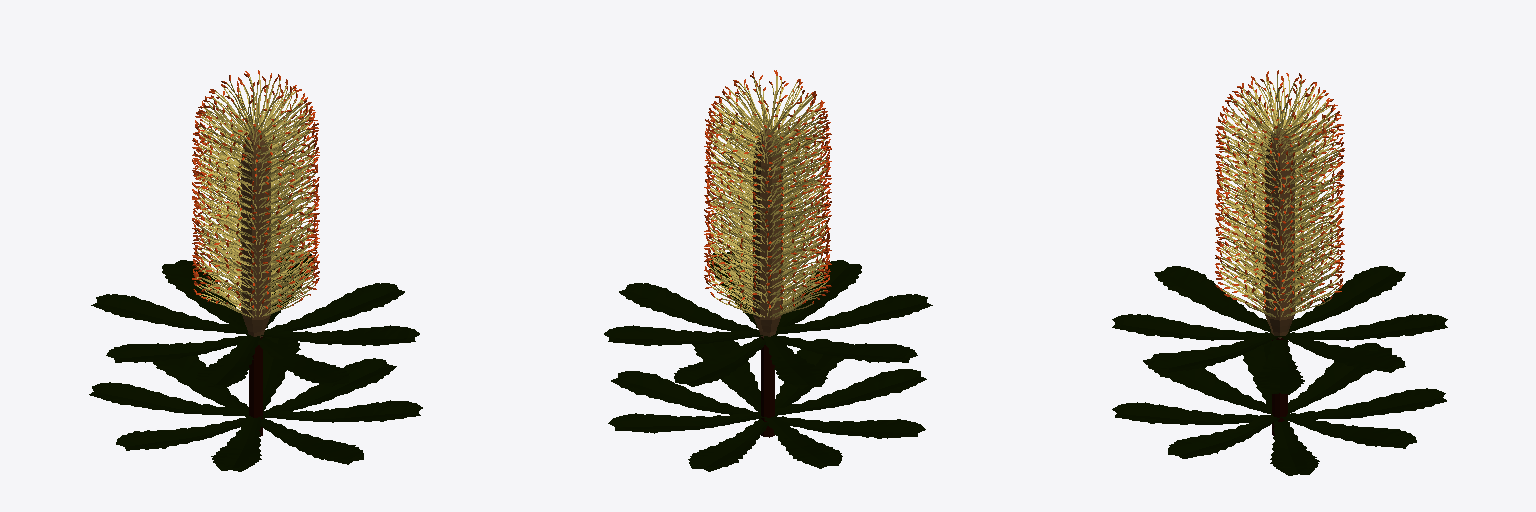
File: banksia.obj
3 views of the same model, side by side, from view 1: azimuth 30°, elevation 25°; view 2: azimuth 150°, elevation 25°; view 3: azimuth 270°, elevation 25° (orthographic).
Parts seen in each view (by area): view 1: HP_Spike, Plane.007, Plane.003, Plane, Plane.004, Plane.001, Plane.005, LP_Spike, Plane.006, Plane.002, Stem; view 2: HP_Spike, Plane.006, Plane.002, Plane.004, Plane, Plane.001, Plane.007, LP_Spike, Plane.005, Plane.003, Stem; view 3: HP_Spike, Plane.002, Plane.003, Plane.005, Plane.001, Plane.006, Plane.007, LP_Spike, Plane.004, Plane.
Part boxes in pixels (x1,y1,x2,y2): HP_Spike: (192, 70, 319, 317); Plane.007: (89, 382, 422, 422); Plane.003: (91, 294, 419, 345); Plane: (106, 283, 404, 362); Plane.004: (116, 358, 396, 450); Plane.001: (162, 260, 349, 386); Plane.005: (153, 355, 363, 464); LP_Spike: (241, 129, 270, 319); Plane.006: (211, 337, 300, 471); Plane.002: (196, 250, 314, 388); Stem: (249, 337, 262, 436); HP_Spike: (704, 70, 831, 317); Plane.006: (608, 369, 926, 433); Plane.002: (604, 294, 932, 345); Plane.004: (611, 371, 925, 438); Plane: (619, 283, 917, 362); Plane.001: (674, 260, 861, 386); Plane.007: (693, 340, 842, 468); LP_Spike: (753, 129, 782, 319); Plane.005: (688, 339, 843, 471); Plane.003: (709, 252, 827, 388); Stem: (761, 337, 774, 437); HP_Spike: (1215, 70, 1344, 317); Plane.002: (1154, 266, 1405, 372); Plane.003: (1154, 266, 1405, 372); Plane.005: (1112, 388, 1446, 424); Plane.001: (1112, 314, 1447, 340); Plane.006: (1143, 353, 1416, 448); Plane.007: (1168, 343, 1391, 458); LP_Spike: (1265, 129, 1294, 320); Plane.004: (1243, 340, 1319, 475); Plane: (1255, 261, 1304, 394).
Size of the model in its own units: 22.01 by 25.78 by 22.01.